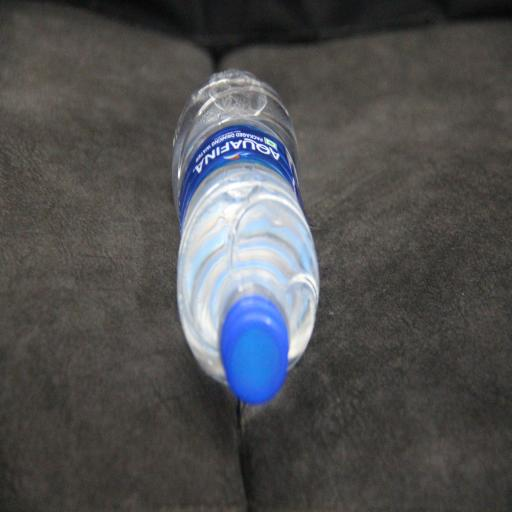Aquafina: (172, 70, 319, 405)
